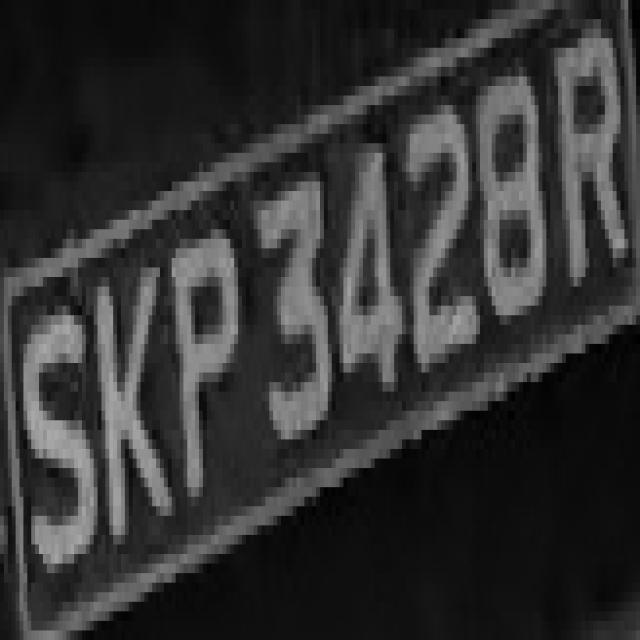2: (390, 105, 476, 420)
3: (242, 162, 339, 468)
4: (320, 105, 410, 430)
8: (476, 67, 558, 363)
K: (90, 229, 172, 564)
P: (160, 191, 246, 535)
R: (546, 9, 632, 324)
S: (12, 277, 98, 592)
